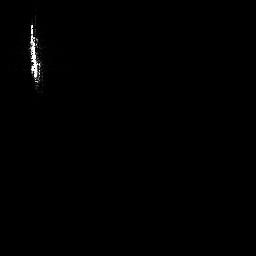ship: (29, 14, 44, 96)
